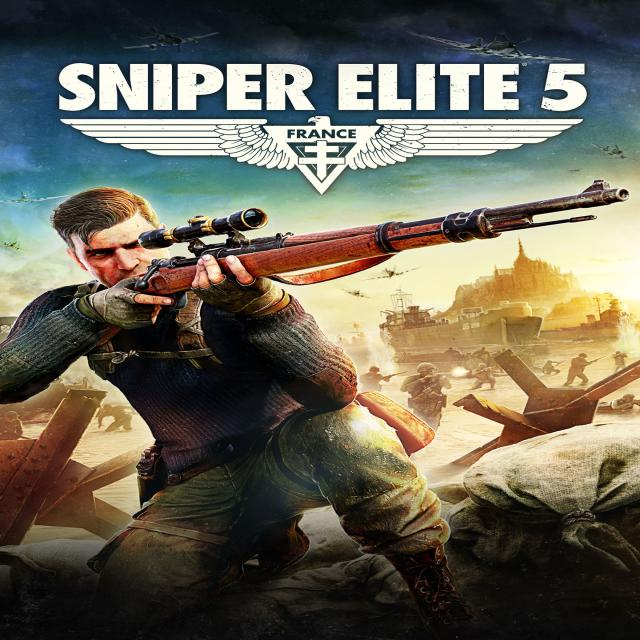Weapon: (40, 177, 630, 379)
